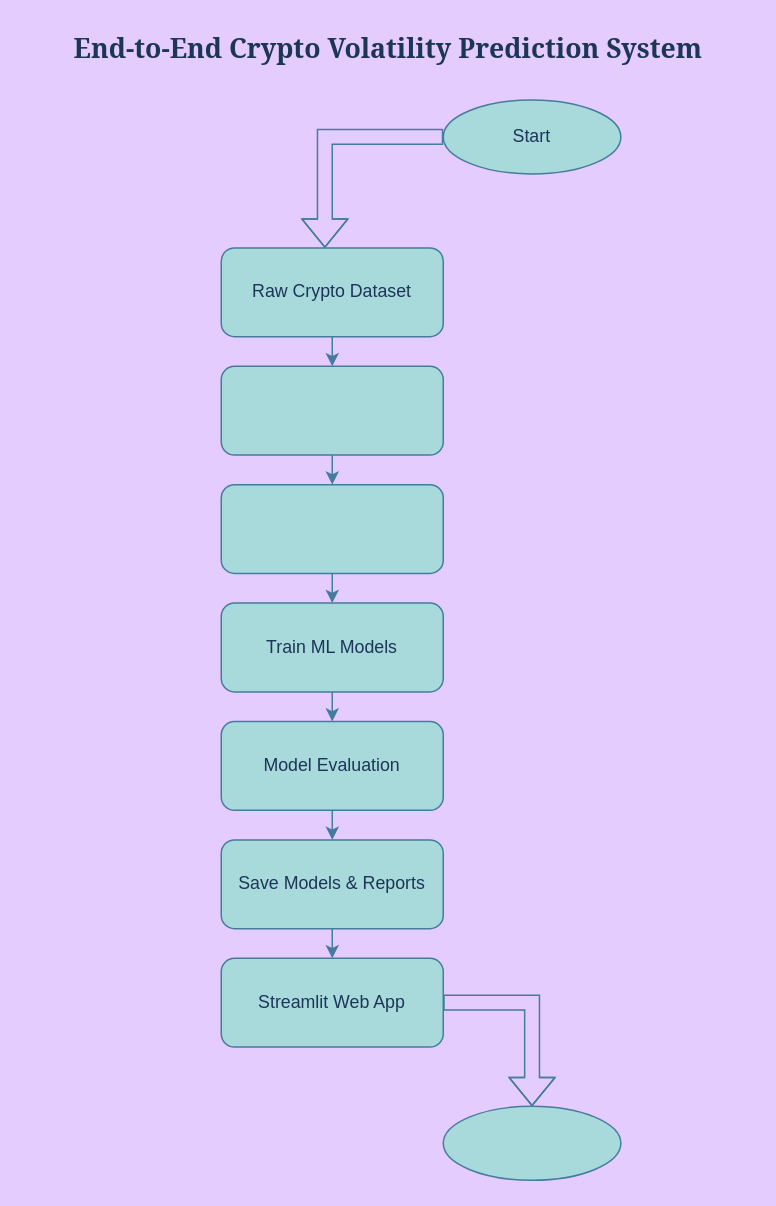
This 776x1206 diagram has some shape labels left out. Here are the shapes that lost their labels. From the top down, the centre of each, then its label:
At [331,410]: "Data Cleaning & Preprocessing".
At [331,528]: "Feature Engineering".
At [531,1142]: "End".
